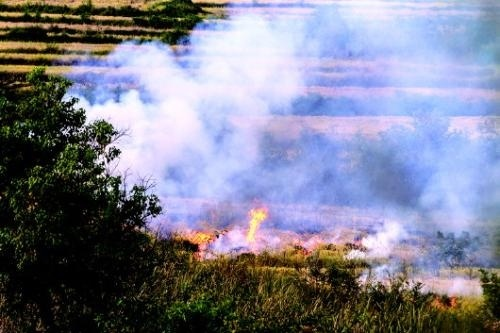fire: (431, 293, 460, 310)
